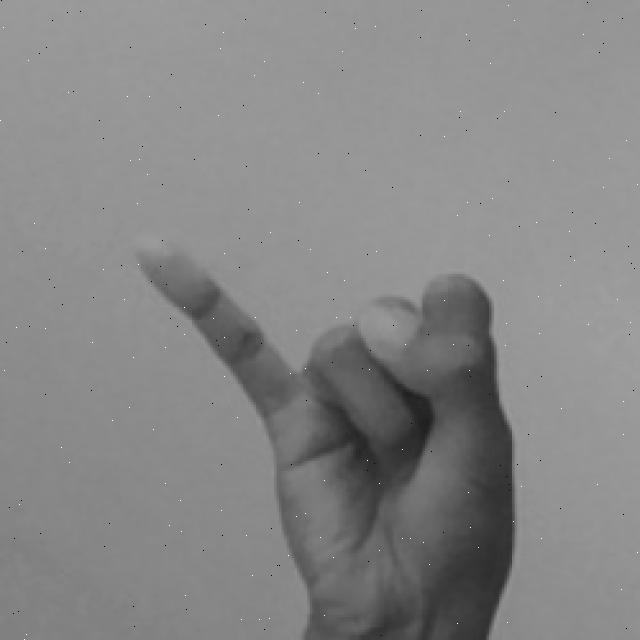I: (130, 227, 524, 640)
